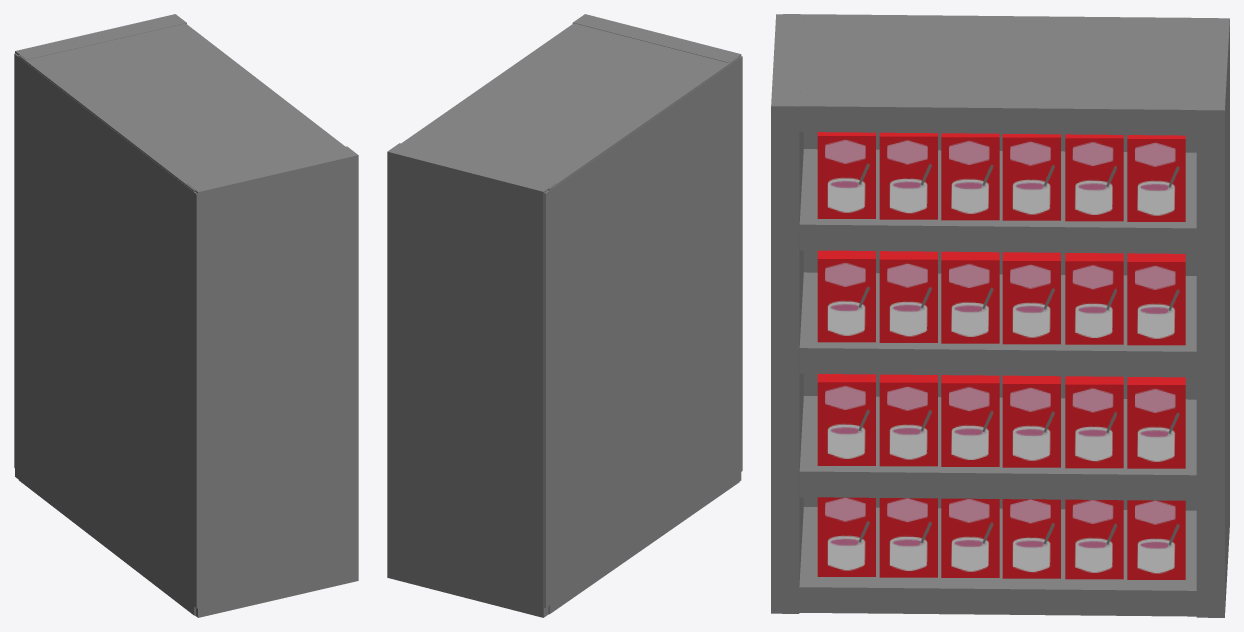
Rendered from strawberry_cereal_shelf.gltf.
3 views of the same model, side by side, from view 1: azimuth 30°, elevation 25°; view 2: azimuth 150°, elevation 25°; view 3: azimuth 270°, elevation 25° (orthographic). The views are drawn at different scales.
Parts seen in each view (by area): view 1: Cube.023; view 2: Cube.023; view 3: Cube.023.
Part boxes in pixels (x1=…): Cube.023: x1=14, y1=14, x2=358, y2=617; Cube.023: x1=387, y1=14, x2=742, y2=617; Cube.023: x1=771, y1=14, x2=1229, y2=617.
Bounding box in the file's own units: 4.22 × 10.28 × 8.42.
Materials: 3 (1 with a texture image).
